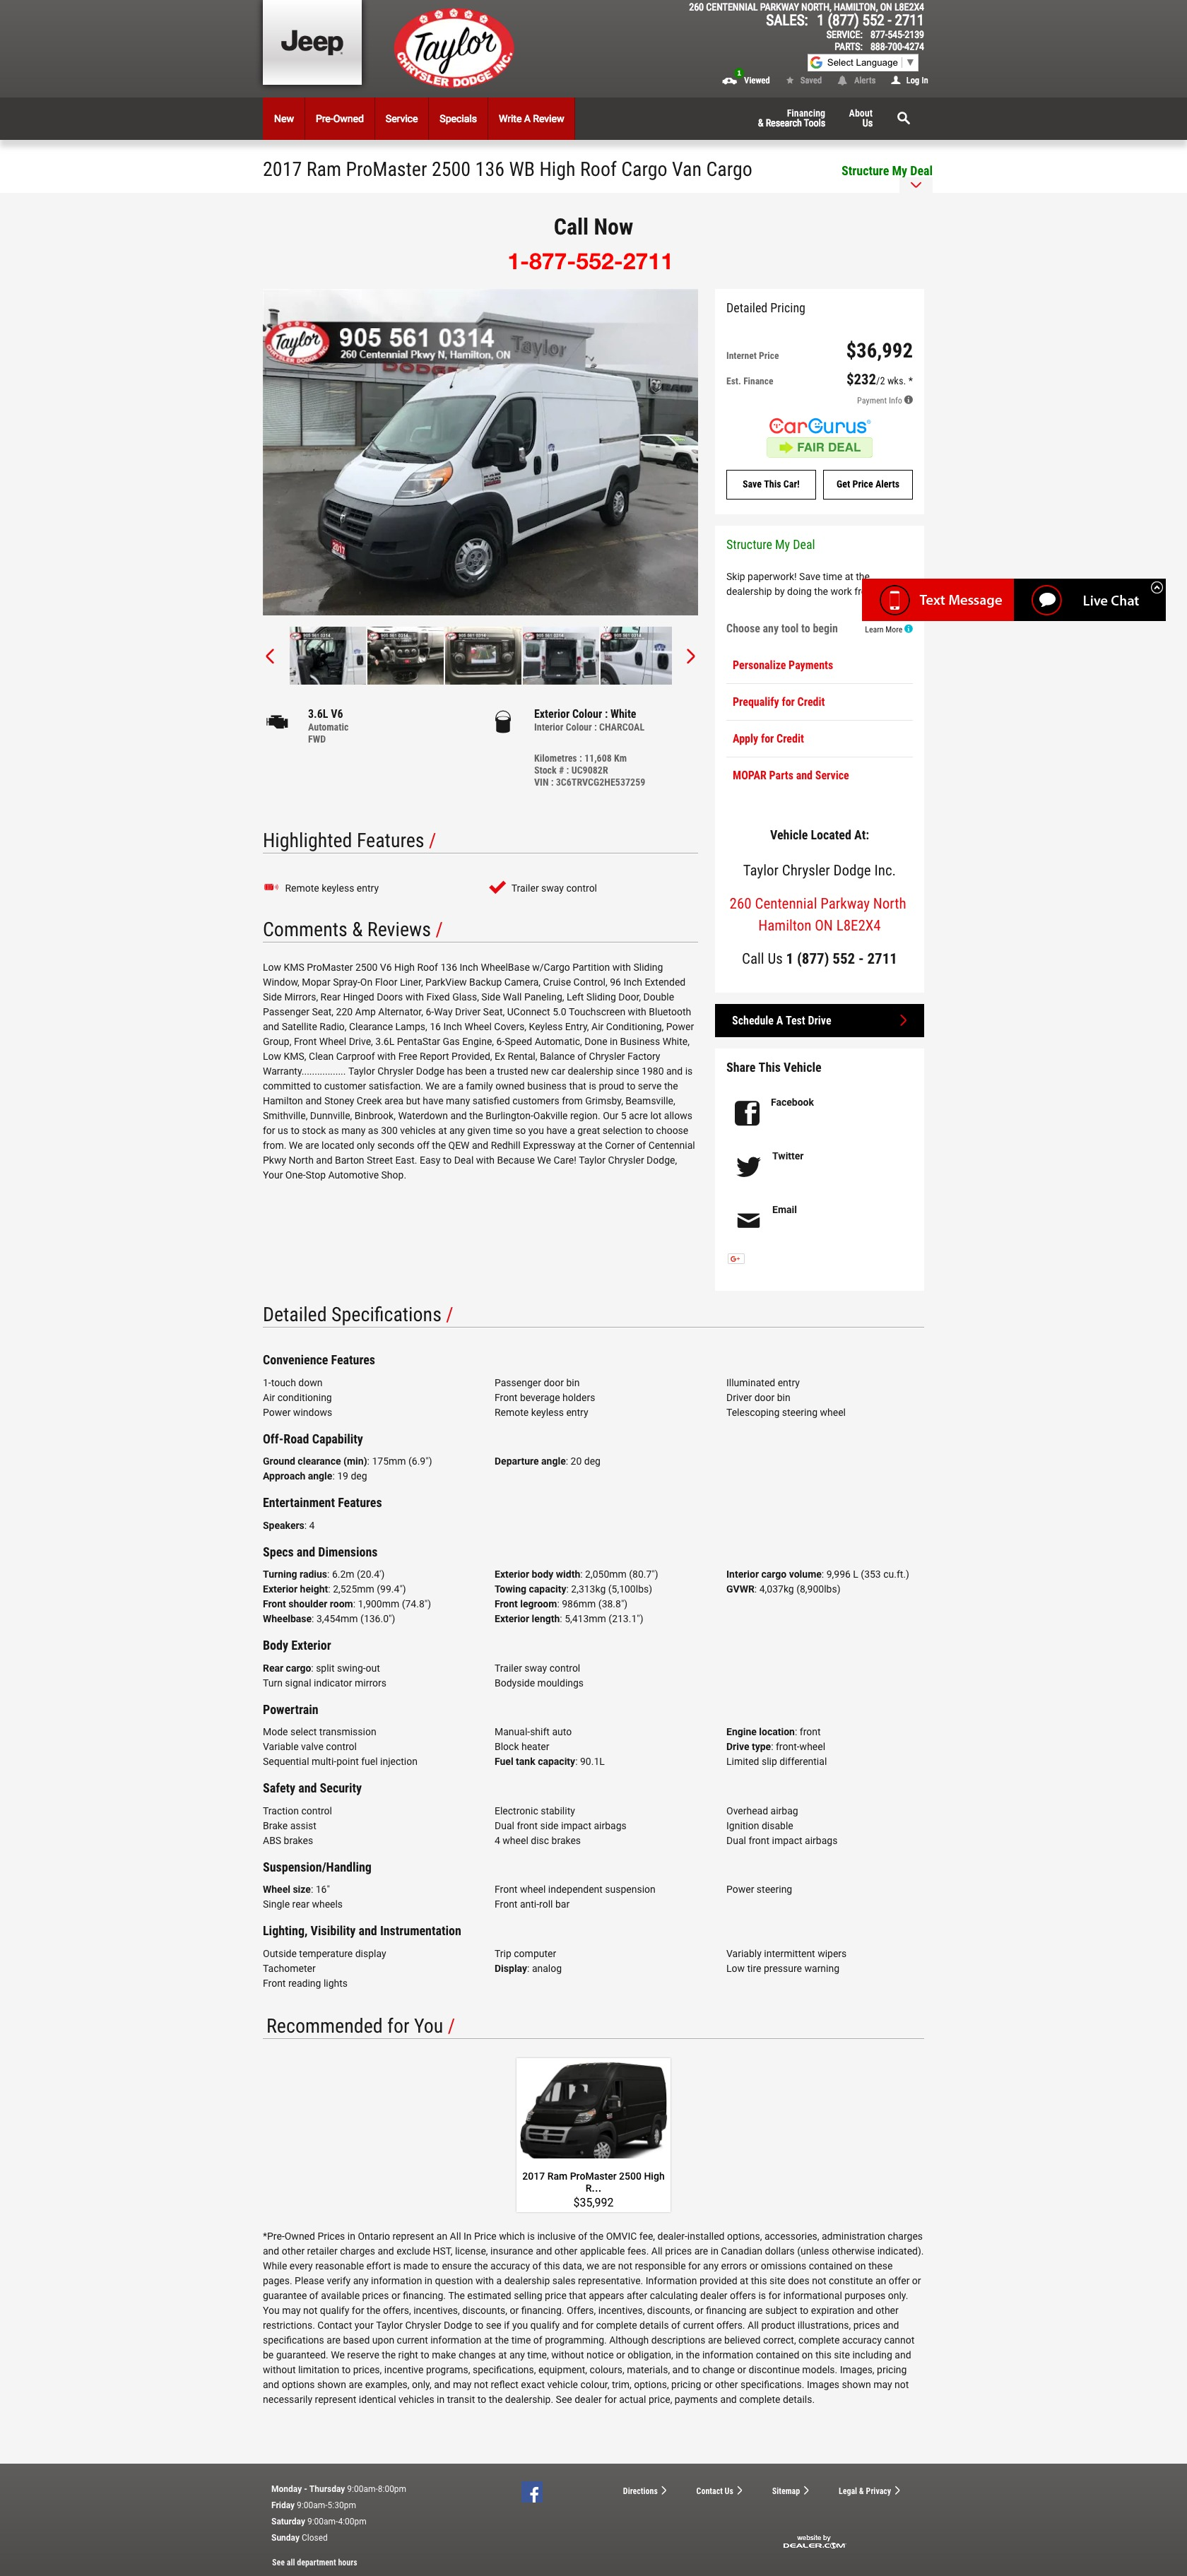car: (686, 649, 696, 665)
